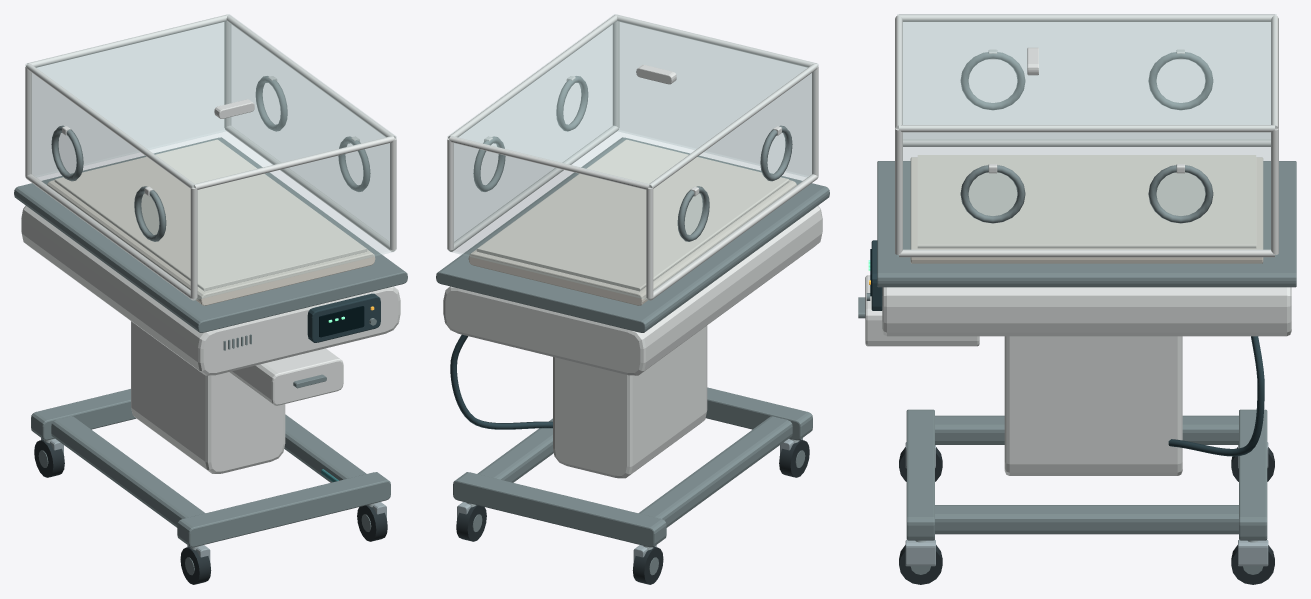
File: incubator.glb
3 views of the same model, side by side, from view 1: azimuth 30°, elevation 25°; view 2: azimuth 150°, elevation 25°; view 3: azimuth 270°, elevation 25° (orthographic). The views are drawn at different scales.
Parts seen in each view (by area): view 1: incubator-batch (×4), clear-end-panel (×2), clear-hood, clear-side-panel (×2), incubator, mattress; view 2: incubator-batch (×4), clear-end-panel (×2), clear-hood, clear-side-panel (×2), incubator, mattress; view 3: incubator-batch (×5), clear-side-panel (×2), clear-hood, incubator, mattress.
Part boxes in pixels (x1=…): incubator-batch (×4): x1=14, y1=14, x2=407, y2=584; clear-end-panel (×2): x1=32, y1=22, x2=394, y2=299; clear-hood: x1=25, y1=14, x2=396, y2=187; clear-side-panel (×2): x1=29, y1=25, x2=389, y2=291; incubator: x1=54, y1=133, x2=374, y2=337; mattress: x1=47, y1=180, x2=375, y2=305; incubator-batch (×4): x1=436, y1=14, x2=829, y2=584; clear-end-panel (×2): x1=449, y1=22, x2=811, y2=299; clear-hood: x1=447, y1=14, x2=818, y2=187; clear-side-panel (×2): x1=454, y1=25, x2=814, y2=291; incubator: x1=476, y1=133, x2=789, y2=291; mattress: x1=468, y1=180, x2=796, y2=305; incubator-batch (×5): x1=858, y1=14, x2=1296, y2=584; clear-side-panel (×2): x1=903, y1=22, x2=1270, y2=250; clear-hood: x1=897, y1=14, x2=1276, y2=129; incubator: x1=869, y1=155, x2=1256, y2=296; mattress: x1=910, y1=157, x2=1263, y2=263.
Bounding box in the file's own units: 0.8272 × 1.57 × 1.31.
